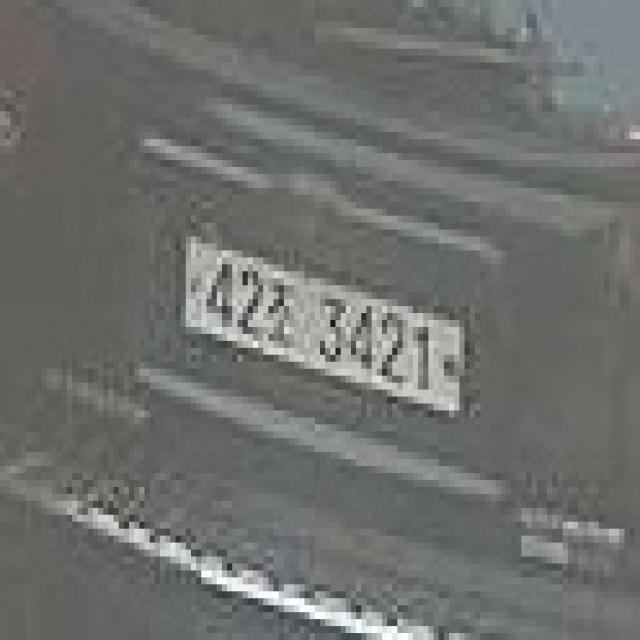plat: (1, 0, 638, 638), (180, 232, 473, 417)
